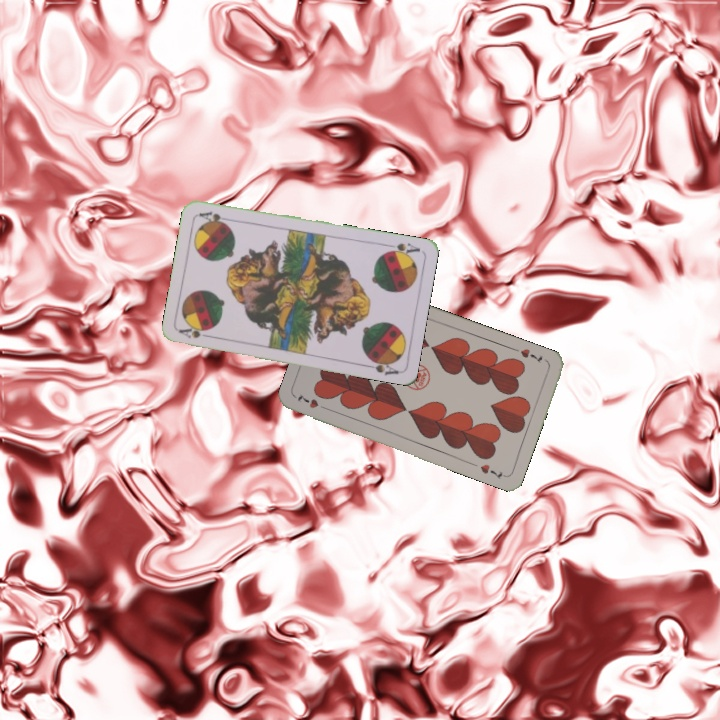H7: (292, 390, 331, 413), (510, 345, 545, 365)
SA: (381, 238, 423, 259), (176, 323, 216, 341)
